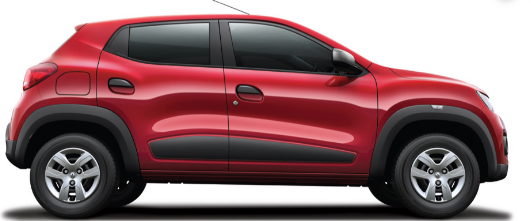car: (5, 11, 510, 221)
